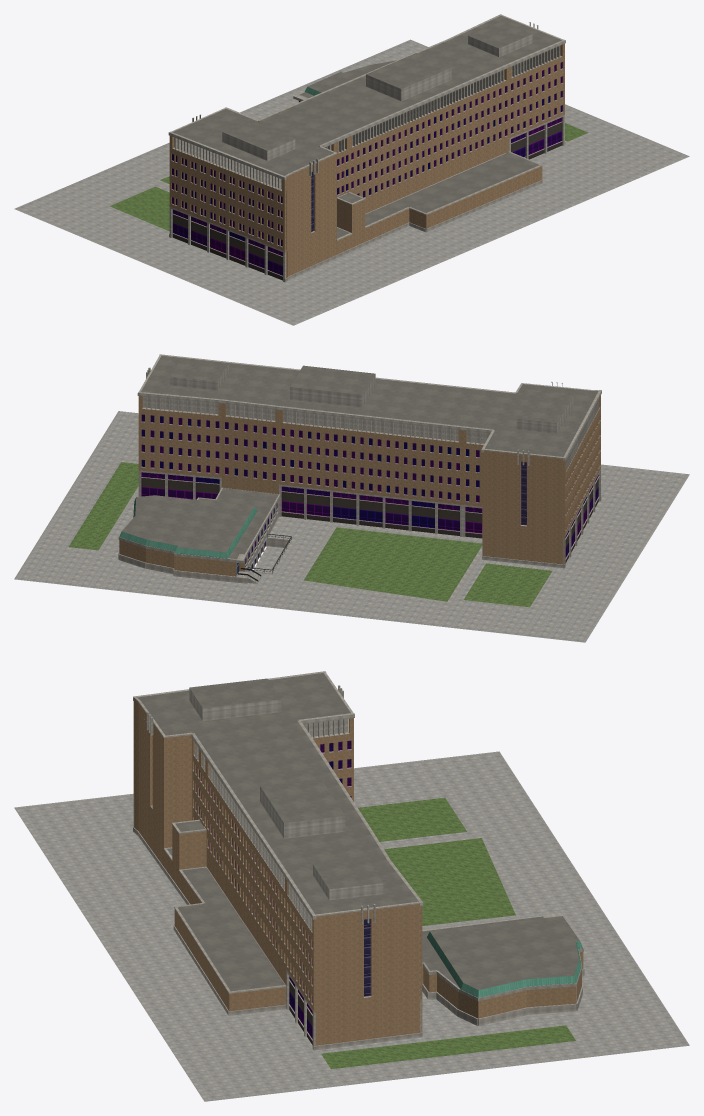
The model's file is ramsay-wright.glb.
3 views of the same model, one above another, from view 1: azimuth 30°, elevation 25°; view 2: azimuth 150°, elevation 25°; view 3: azimuth 270°, elevation 25° (orthographic). The views are drawn at different scales.
Parts seen in each view (by area): view 1: RamsayWright_Paving, RamsayWright_Walls, RamsayWright_Roof, RamsayWright_Concrete, RamsayWright_Glass, RamsayWright_Trim, RamsayWright_Lawn; view 2: RamsayWright_Paving, RamsayWright_Walls, RamsayWright_Roof, RamsayWright_Concrete, RamsayWright_Lawn, RamsayWright_Glass, RamsayWright_Trim, RamsayWright_Base; view 3: RamsayWright_Paving, RamsayWright_Roof, RamsayWright_Walls, RamsayWright_Concrete, RamsayWright_Lawn, RamsayWright_Glass, RamsayWright_Trim.
Part boxes in pixels (x1=…): RamsayWright_Paving: x1=14, y1=39, x2=689, y2=325; RamsayWright_Walls: x1=169, y1=43, x2=564, y2=277; RamsayWright_Roof: x1=172, y1=16, x2=561, y2=238; RamsayWright_Concrete: x1=168, y1=14, x2=565, y2=282; RamsayWright_Glass: x1=172, y1=62, x2=562, y2=275; RamsayWright_Trim: x1=172, y1=87, x2=561, y2=280; RamsayWright_Lawn: x1=110, y1=123, x2=588, y2=231; RamsayWright_Paving: x1=14, y1=411, x2=689, y2=642; RamsayWright_Walls: x1=119, y1=395, x2=600, y2=576; RamsayWright_Roof: x1=122, y1=355, x2=598, y2=558; RamsayWright_Concrete: x1=118, y1=354, x2=601, y2=583; RamsayWright_Lawn: x1=68, y1=462, x2=552, y2=607; RamsayWright_Glass: x1=141, y1=414, x2=598, y2=574; RamsayWright_Trim: x1=119, y1=477, x2=598, y2=582; RamsayWright_Base: x1=225, y1=488, x2=600, y2=574; RamsayWright_Paving: x1=14, y1=751, x2=689, y2=1101; RamsayWright_Roof: x1=137, y1=673, x2=579, y2=991; RamsayWright_Walls: x1=133, y1=698, x2=583, y2=1045; RamsayWright_Concrete: x1=133, y1=671, x2=584, y2=1050; RamsayWright_Lawn: x1=321, y1=797, x2=575, y2=1069; RamsayWright_Glass: x1=196, y1=740, x2=370, y2=1038; RamsayWright_Trim: x1=289, y1=931, x2=582, y2=1044.
Bounding box in the file's own units: 163 × 34.61 × 133.
9 materials, 7 textured.
